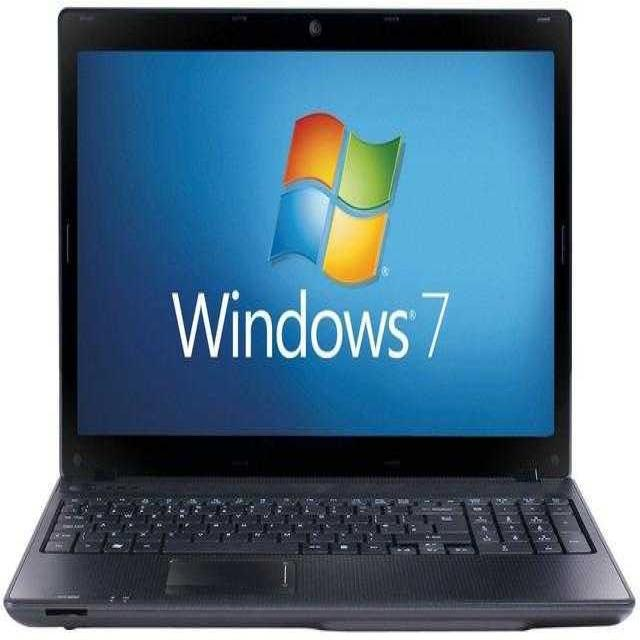laptop: (38, 9, 622, 628)
